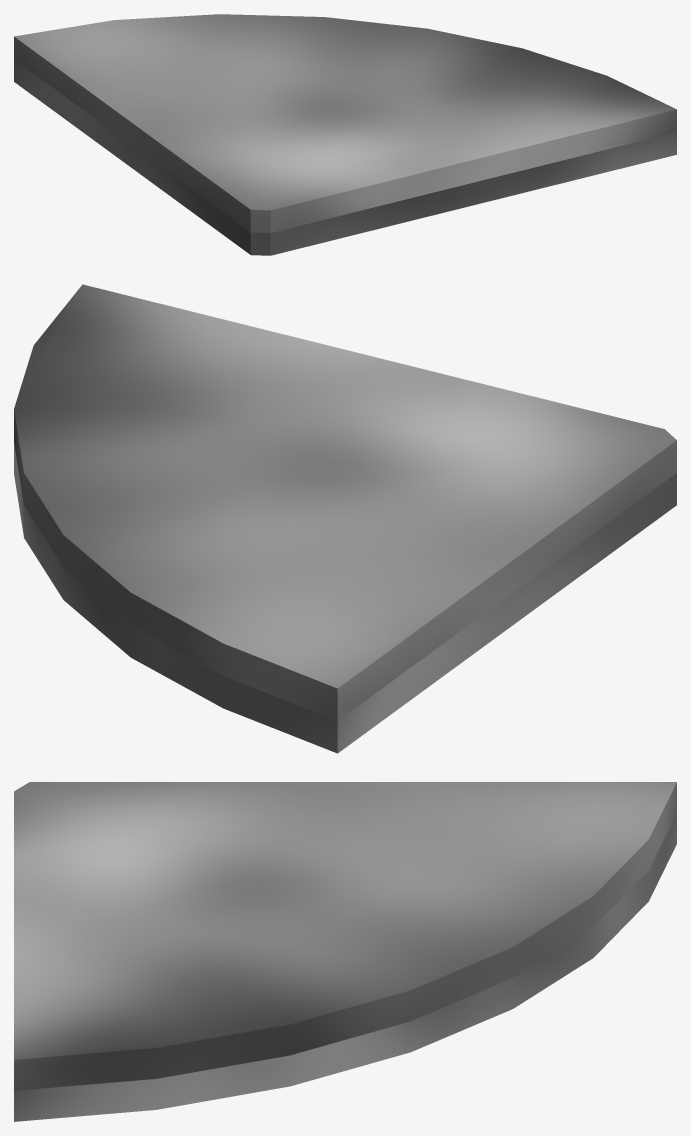
The model's file is ceyrekCam.fbx.
3 views of the same model, one above another, from view 1: azimuth 30°, elevation 25°; view 2: azimuth 150°, elevation 25°; view 3: azimuth 270°, elevation 25° (orthographic). The views are drawn at different scales.
Parts seen in each view (by area): view 1: Circle.002; view 2: Circle.002; view 3: Circle.002.
Part boxes in pixels (box(x1,y1,x2,y2)): Circle.002: box(14, 14, 676, 255); Circle.002: box(14, 284, 676, 753); Circle.002: box(14, 782, 676, 1121).
Size of the model in its own units: 91.09 by 9.8 by 90.98.
1 material, 1 textured.
